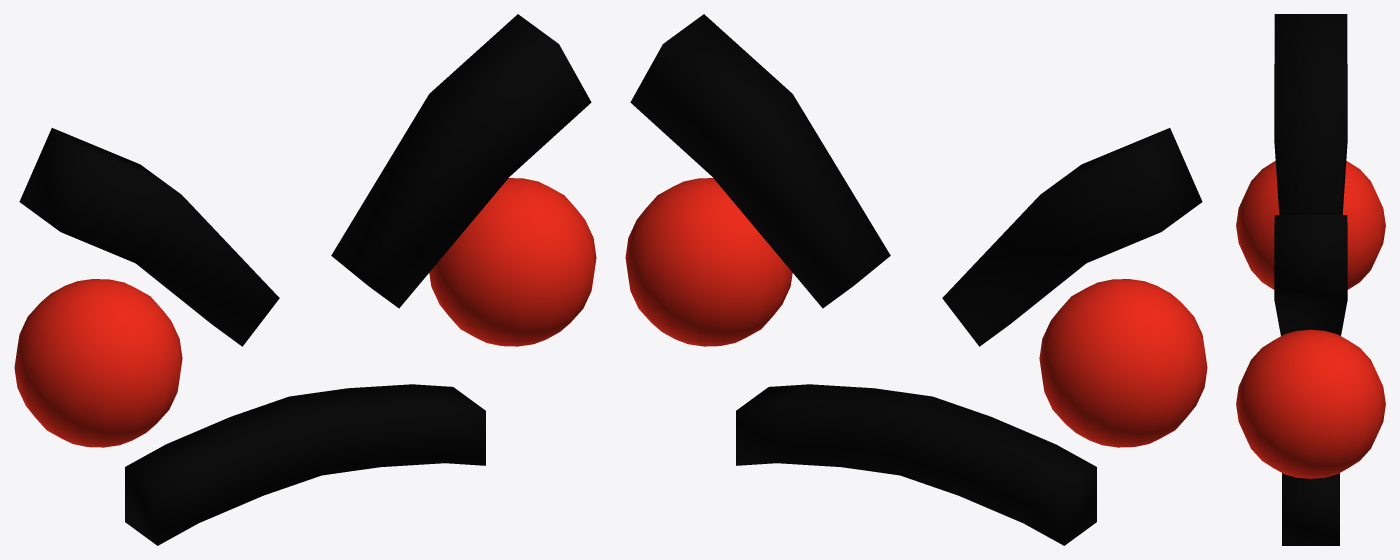
File: GuardianFace.glb
The picture shows the model from 3 angles, left to right: view 1: azimuth 30°, elevation 25°; view 2: azimuth 150°, elevation 25°; view 3: azimuth 270°, elevation 25°; orthographic projection. The views are drawn at different scales.
Parts seen in each view (by area): view 1: GuardianFace; view 2: GuardianFace; view 3: GuardianFace.
Boxes of the visible parts, x1,y1,x2,y2 form: GuardianFace: (14,14,596,545); GuardianFace: (625,14,1207,545); GuardianFace: (1236,14,1385,545).
Size of the model in its own units: 5.95 by 4.14 by 1.56.
